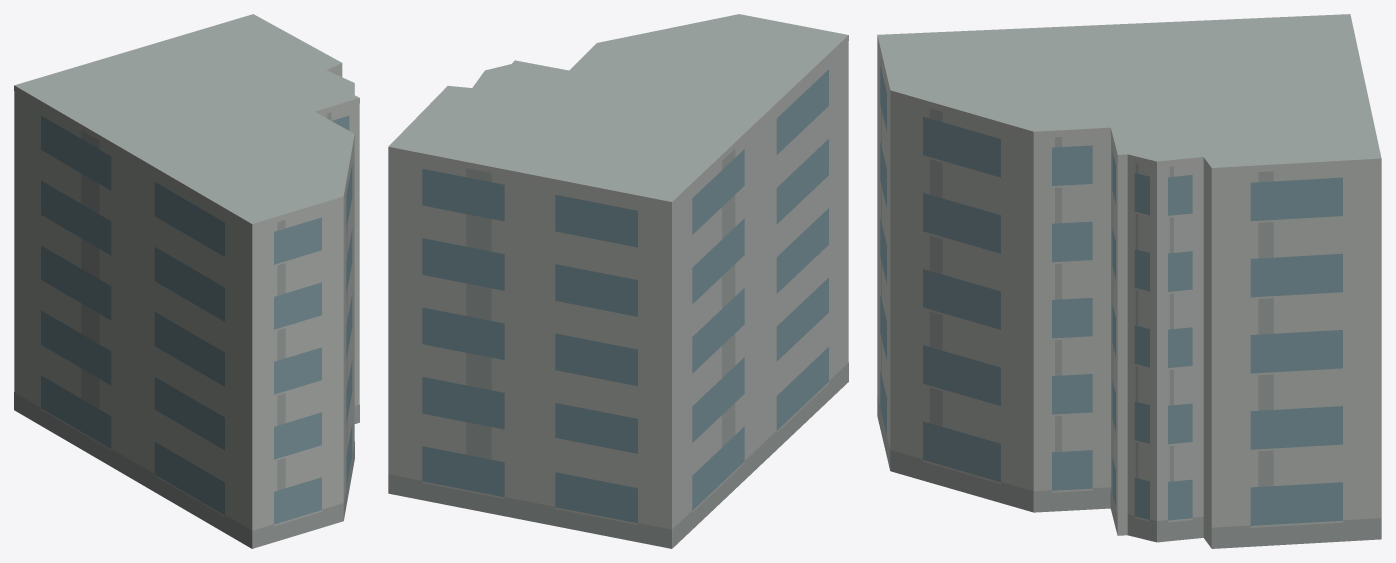
The model's file is survey-upis-32621034.glb.
The picture shows the model from 3 angles, left to right: view 1: azimuth 30°, elevation 25°; view 2: azimuth 150°, elevation 25°; view 3: azimuth 270°, elevation 25°; orthographic projection. The views are drawn at different scales.
Visible parts, largest first — view 1: survey-upis-32621034.tmp; view 2: survey-upis-32621034.tmp; view 3: survey-upis-32621034.tmp.
Part boxes in pixels (<box>): survey-upis-32621034.tmp: <box>14,14,359,548</box>; survey-upis-32621034.tmp: <box>388,14,848,548</box>; survey-upis-32621034.tmp: <box>877,14,1381,548</box>.
Bounding box in the file's own units: 12.07 × 13.9 × 16.69.
